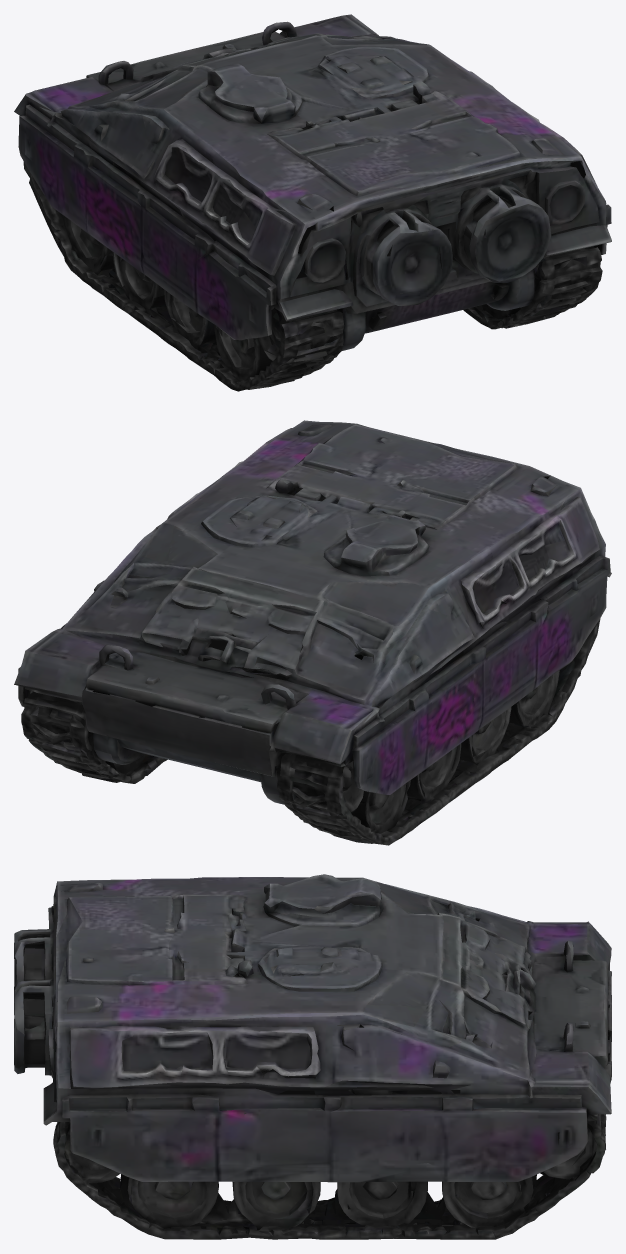
The model's file is P_TANK_HULL_neon.glb.
3 views of the same model, one above another, from view 1: azimuth 30°, elevation 25°; view 2: azimuth 150°, elevation 25°; view 3: azimuth 270°, elevation 25° (orthographic). The views are drawn at different scales.
Parts seen in each view (by area): view 1: world; view 2: world; view 3: world.
Boxes of the visible parts, box(x1,y1,x2,y2) form: world: box(14, 14, 611, 391); world: box(14, 420, 611, 845); world: box(14, 874, 611, 1239).
Bounding box in the file's own units: 0.6956 × 0.4465 × 1.
Materials: 1 (1 with a texture image).
